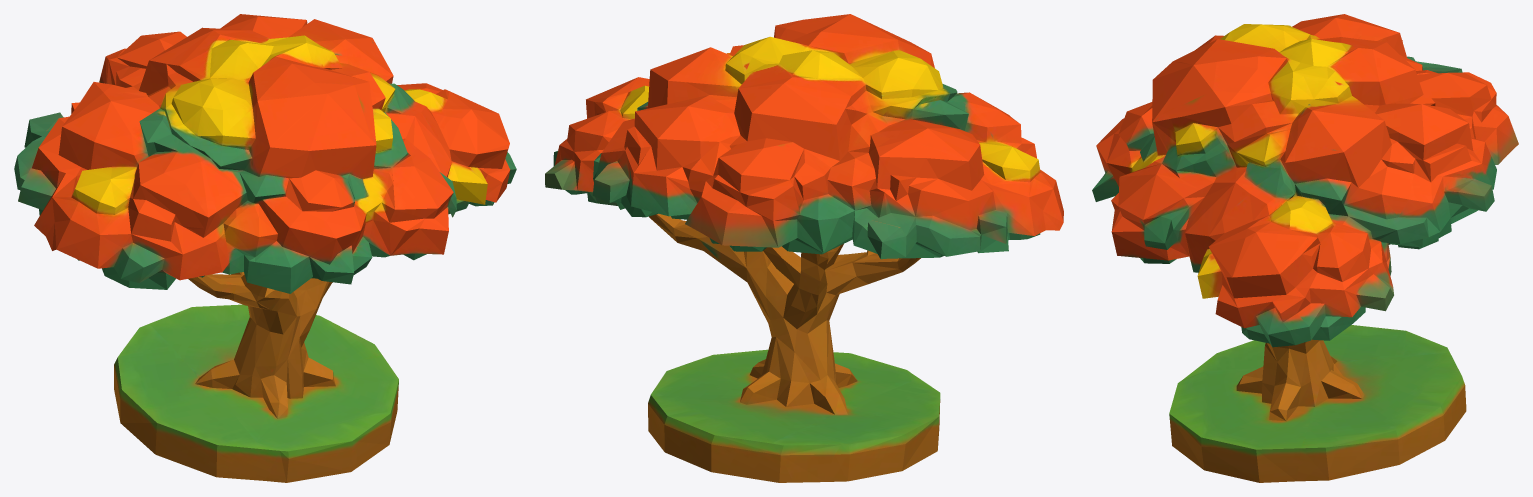
Rendered from rio-arvore-flamboyant.glb.
3 views of the same model, side by side, from view 1: azimuth 30°, elevation 25°; view 2: azimuth 150°, elevation 25°; view 3: azimuth 270°, elevation 25° (orthographic). The views are drawn at different scales.
Visible parts, largest first — view 1: tripo_node_df95992d-5dd3-4702-bda0-aa4b42826065; view 2: tripo_node_df95992d-5dd3-4702-bda0-aa4b42826065; view 3: tripo_node_df95992d-5dd3-4702-bda0-aa4b42826065.
Boxes of the visible parts, x1,y1,x2,y2 form: tripo_node_df95992d-5dd3-4702-bda0-aa4b42826065: [14, 14, 516, 482]; tripo_node_df95992d-5dd3-4702-bda0-aa4b42826065: [545, 14, 1063, 482]; tripo_node_df95992d-5dd3-4702-bda0-aa4b42826065: [1092, 14, 1518, 482].
Bounding box in the file's own units: 1 × 0.7863 × 0.7852.
Materials: 1 (1 with a texture image).
